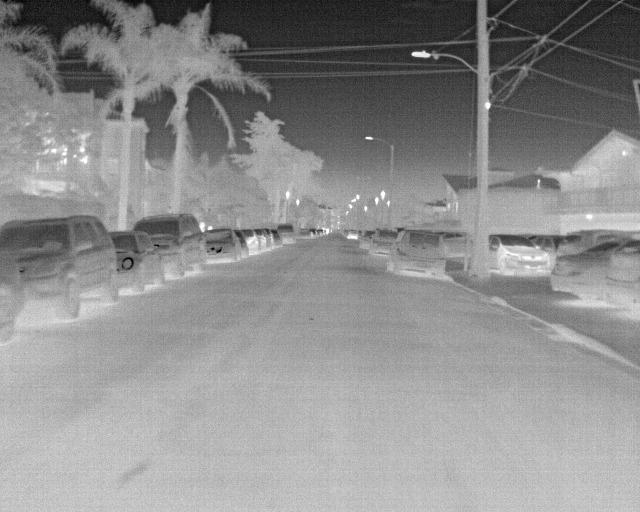car: (2, 212, 119, 323), (133, 214, 207, 280), (548, 239, 622, 300), (110, 228, 165, 294), (385, 228, 447, 279), (488, 233, 555, 279), (604, 239, 635, 320), (556, 229, 630, 257), (4, 246, 26, 339), (524, 233, 571, 271), (205, 228, 244, 264), (367, 226, 398, 258), (434, 228, 466, 258), (239, 227, 260, 256), (270, 222, 297, 244), (357, 230, 374, 250), (253, 228, 267, 250), (294, 226, 314, 241), (261, 228, 274, 249), (271, 228, 283, 248), (345, 227, 361, 240)
